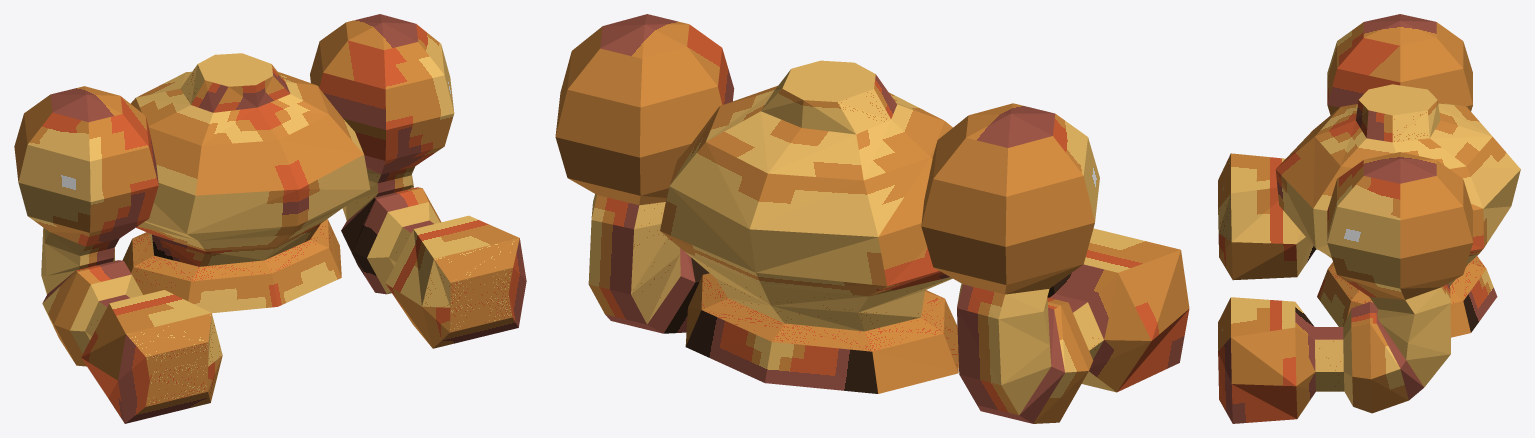
The picture shows the model from 3 angles, left to right: view 1: azimuth 30°, elevation 25°; view 2: azimuth 150°, elevation 25°; view 3: azimuth 270°, elevation 25°; orthographic projection. The views are drawn at different scales.
Parts seen in each view (by area): view 1: Sphere.014_Sphere.002; view 2: Sphere.014_Sphere.002; view 3: Sphere.014_Sphere.002.
Part boxes in pixels (bbox=[...]): Sphere.014_Sphere.002: bbox=[14, 14, 526, 423]; Sphere.014_Sphere.002: bbox=[555, 14, 1189, 423]; Sphere.014_Sphere.002: bbox=[1218, 14, 1520, 423].
Size of the model in its own units: 1.01 by 0.5731 by 0.6407.
